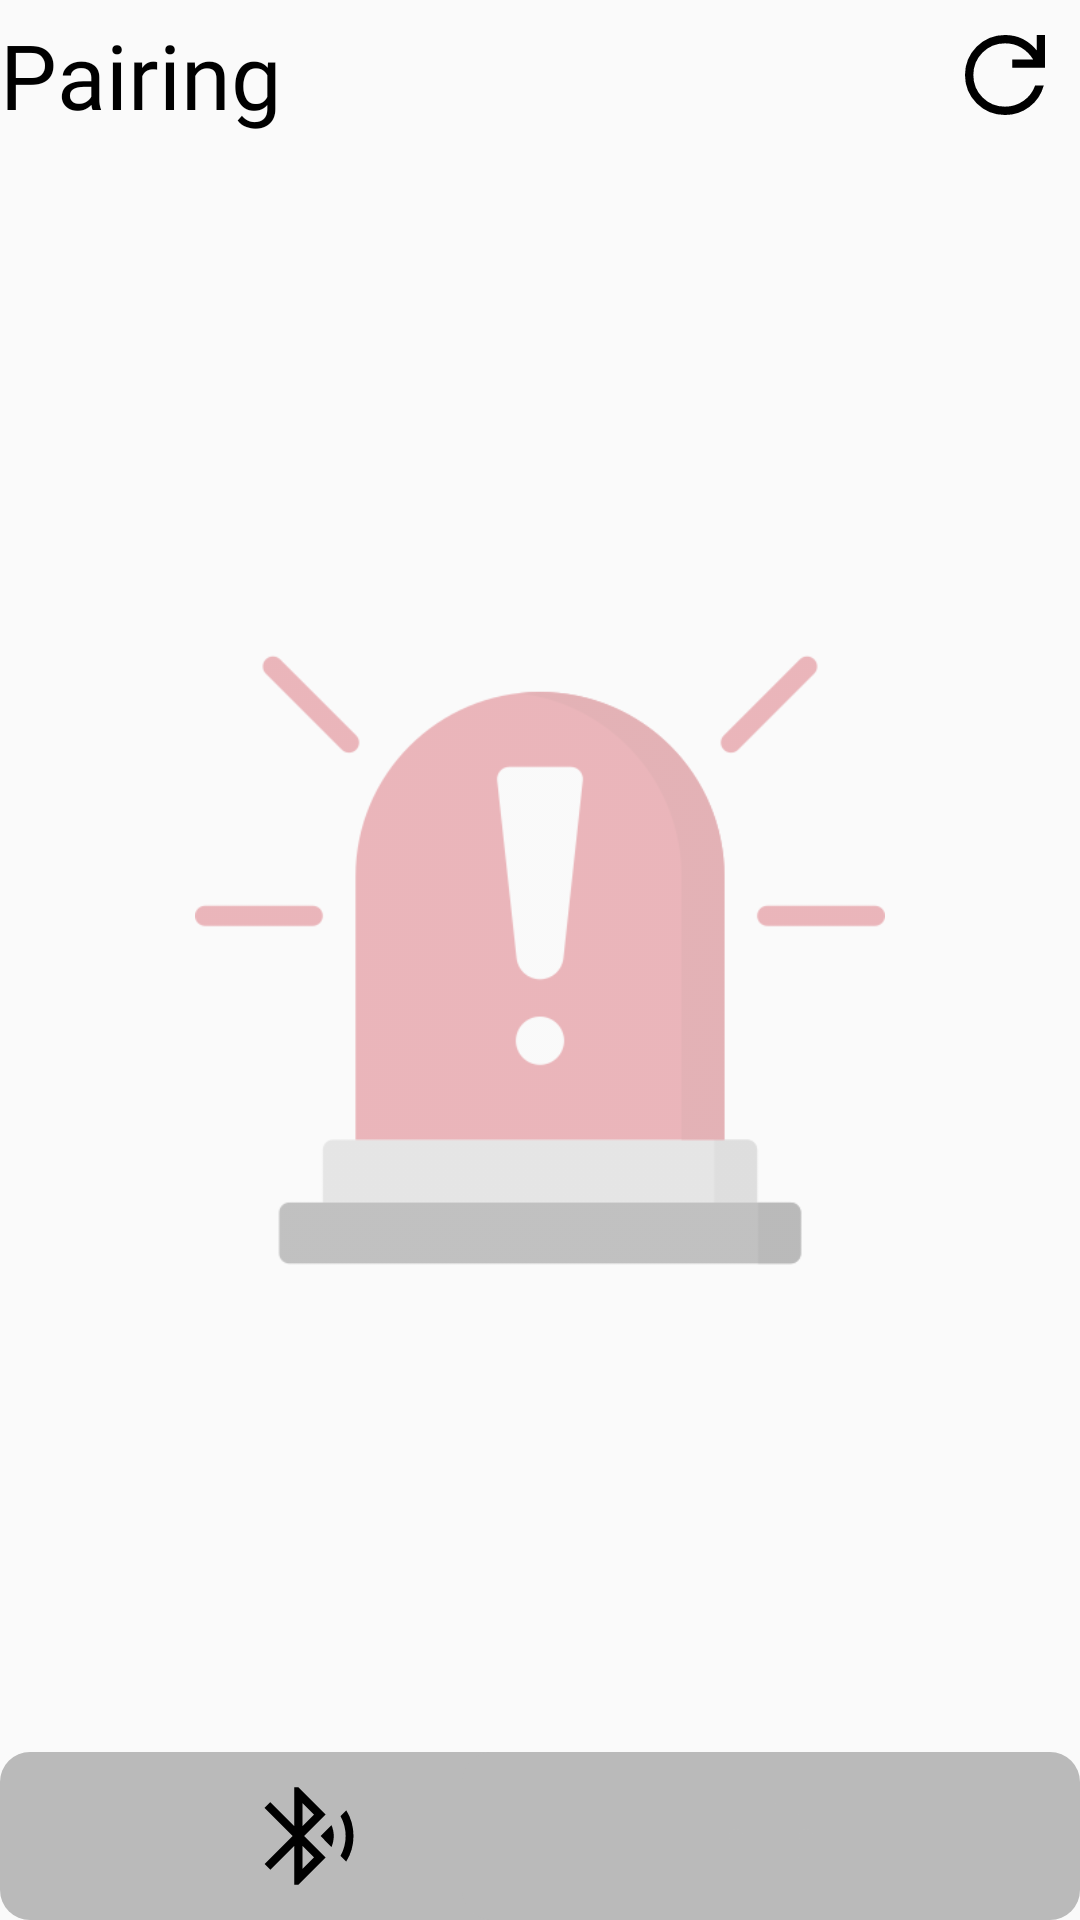

Icons on this 1080px x 1920px Android screen, each with its box as (x1, y1, x2, y2):
refresh: (965, 35, 1045, 115)
